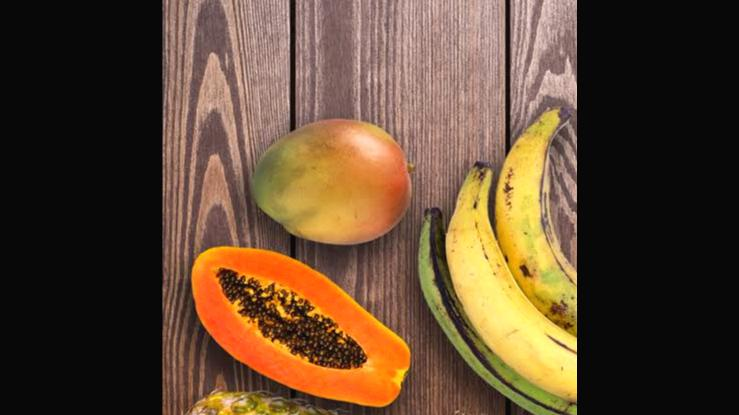xoai: (248, 117, 414, 246)
